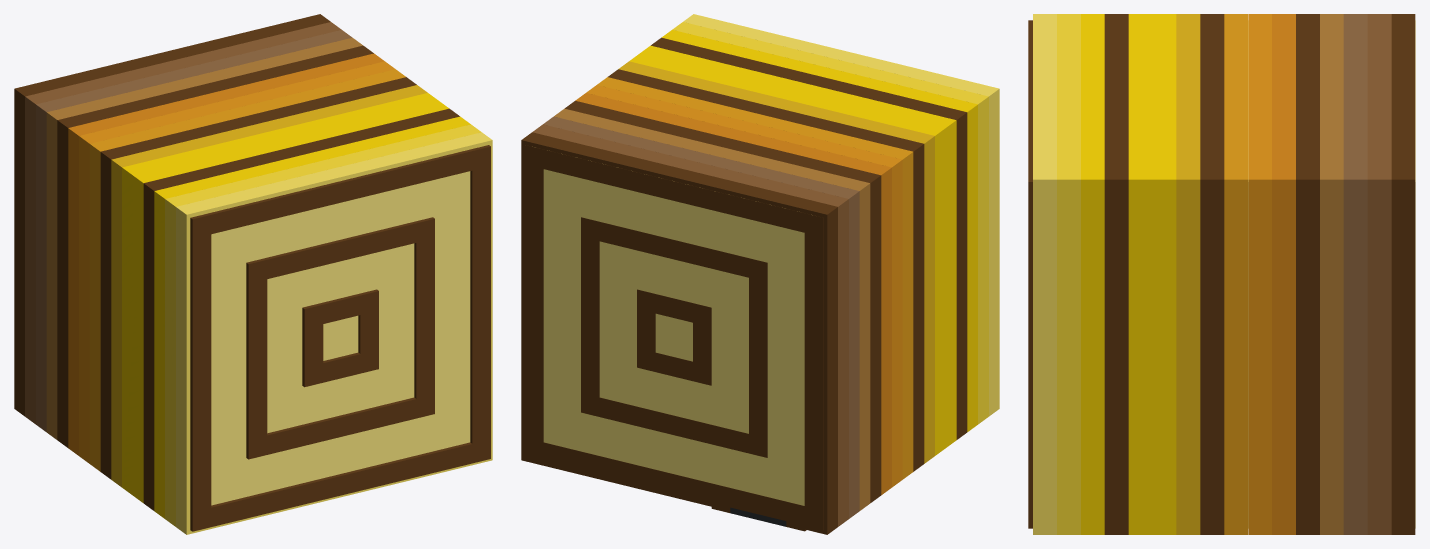
Rendered from beehive.obj.
3 views of the same model, side by side, from view 1: azimuth 30°, elevation 25°; view 2: azimuth 150°, elevation 25°; view 3: azimuth 270°, elevation 25° (orthographic). The views are drawn at different scales.
Visible parts, largest first — view 1: group_0_6306067, group_0_16772223, group_0_16767232, group_0_16770912, group_0_15114264, group_0_11894839, group_0_9396532, group_0_15111960, group_0_16769335, group_0_14387479, group_0_9726530, group_0_15120408; view 2: group_0_6306067, group_0_16772223, group_0_16767232, group_0_15114264, group_0_11894839, group_0_9396532, group_0_15120408, group_0_16770912, group_0_9726530, group_0_15111960, group_0_16769335, group_0_14387479; view 3: group_0_6306067, group_0_16767232, group_0_9396532, group_0_9726530, group_0_15120408, group_0_11894839, group_0_14387479, group_0_15111960, group_0_15114264, group_0_16769335, group_0_16770912, group_0_16772223.
Part boxes in pixels (x1,y1,x2,y2): group_0_6306067: (14,14,490,531); group_0_16772223: (211,171,470,505); group_0_16767232: (122,93,470,518); group_0_16770912: (176,132,492,534); group_0_15114264: (89,69,405,471); group_0_11894839: (46,37,362,439); group_0_9396532: (25,22,341,424); group_0_15111960: (79,61,395,463); group_0_16769335: (165,124,481,526); group_0_14387479: (68,53,384,455); group_0_9726530: (36,30,351,431); group_0_15120408: (111,85,427,487); group_0_6306067: (521,37,967,534); group_0_16772223: (543,169,804,505); group_0_16767232: (629,30,977,455); group_0_15114264: (597,77,913,479); group_0_11894839: (554,108,870,510); group_0_9396532: (532,124,848,526); group_0_15120408: (618,61,934,463); group_0_16770912: (683,14,999,416); group_0_9726530: (543,116,859,518); group_0_15111960: (586,85,902,487); group_0_16769335: (672,22,988,424); group_0_14387479: (575,93,891,494); group_0_6306067: (1028,14,1415,534); group_0_16767232: (1081,14,1176,534); group_0_9396532: (1367,14,1391,534); group_0_9726530: (1343,14,1367,534); group_0_15120408: (1176,14,1200,534); group_0_11894839: (1320,14,1343,534); group_0_14387479: (1272,14,1295,534); group_0_15111960: (1248,14,1271,534); group_0_15114264: (1224,14,1247,534); group_0_16769335: (1057,14,1080,534); group_0_16770912: (1033,14,1056,534); group_0_16772223: (1248,20,1415,528).
Size of the model in its own units: 82 by 83 by 81.05.
